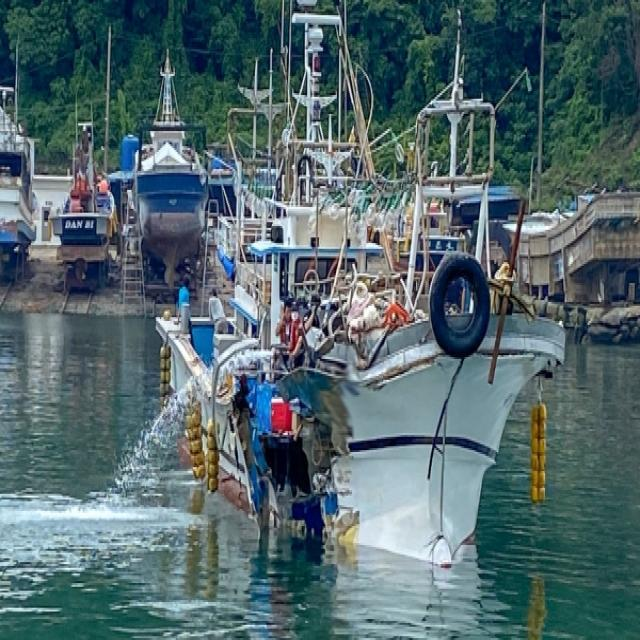Ship: (152, 121, 576, 585)
